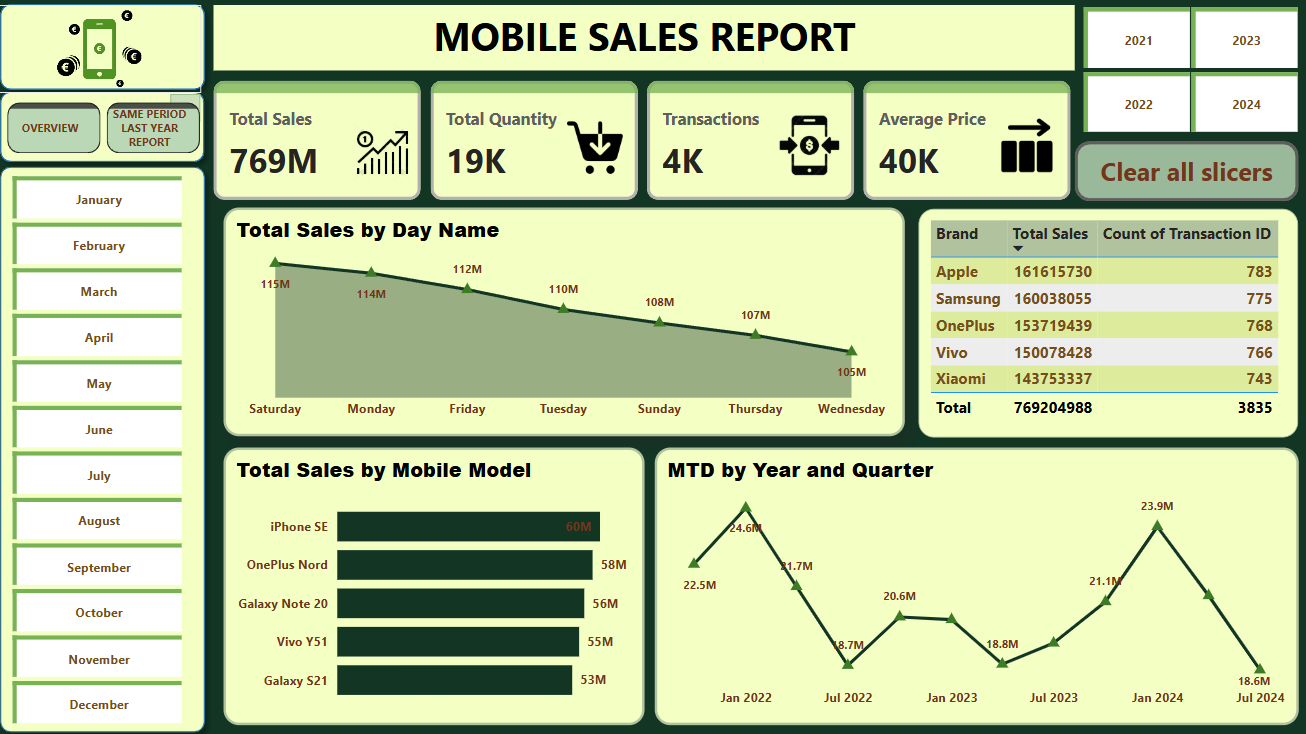

The dashboard page shown, as its layout file describes it:
{"tool":"powerbi","page":{"name":"MTD REPORT","canvas":[1280,720],"ordinal":1},"visuals":[{"type":"shape","box":[0,0,215.2,100.3],"z":0},{"type":"shape","box":[0,156.5,215.2,563.7],"z":1000},{"type":"shape","box":[0,84.5,214.7,85.7],"z":2000},{"type":"image","box":[6,9.7,196.6,84.5],"z":3000},{"type":"textbox","box":[215.2,9.8,831.5,63.6],"z":4000},{"type":"slicer","fields":{"Values":["Custom_Calender.Date.Variation.Date Hierarchy.Month"]},"box":[0,170.1,202.7,534.5],"z":5000},{"type":"slicer","fields":{"Values":["Custom_Calender.Date.Variation.Date Hierarchy.Year"]},"box":[1033.9,7.2,246.1,126.7],"z":6000},{"type":"areaChart","fields":{"Y":["Measure.Total Sales"],"Category":["Custom_Calender.Day Name"]},"box":[224.4,205.1,657.5,220.8],"z":7000},{"type":"tableEx","fields":{"Values":["Mobile Sales.Brand","Measure.Total Sales","CountNonNull(Mobile Sales.Transaction ID)"]},"box":[895.2,206.3,366.8,220.8],"z":8000},{"type":"lineChart","fields":{"Category":["Custom_Calender.Date.Variation.Date Hierarchy.Year","Custom_Calender.Date.Variation.Date Hierarchy.Quarter","Custom_Calender.Date.Variation.Date Hierarchy.Month"],"Y":["Measure.MTD"]},"box":[640.6,436.7,621.3,267.8],"z":9000},{"type":"clusteredBarChart","fields":{"Y":["Measure.Total Sales"],"Category":["Mobile Sales.Mobile Model"]},"box":[224.4,436.7,406.6,267.8],"z":10000},{"type":"cardVisual","fields":{"Data":["Measure.Total Sales","Measure.Total Quantity","Measure.Transactions","Measure.Average Price"]},"box":[209.9,57.9,840.9,165.3],"z":11000},{"type":"pageNavigator","box":[15.7,103.8,187,49.5],"z":12000},{"type":"actionButton","box":[1046,141.2,216,57.9],"z":13000}]}

Visuals, with their boxes in screenshot pixels (x1, y1, x2, y2), scaled from the page's 1280x720 canvas onto the 1306x734 screenshot:
shape: (left=0, top=0, right=220, bottom=102)
shape: (left=0, top=160, right=220, bottom=733)
shape: (left=0, top=86, right=219, bottom=174)
image: (left=6, top=10, right=207, bottom=96)
textbox: (left=220, top=10, right=1068, bottom=75)
slicer - Custom_Calender.Date.Variation.Date Hierarchy.Month: (left=0, top=173, right=207, bottom=718)
slicer - Custom_Calender.Date.Variation.Date Hierarchy.Year: (left=1055, top=7, right=1305, bottom=137)
areaChart - Measure.Total Sales x Custom_Calender.Day Name: (left=229, top=209, right=900, bottom=434)
tableEx - Mobile Sales.Brand x Measure.Total Sales: (left=913, top=210, right=1288, bottom=435)
lineChart - Custom_Calender.Date.Variation.Date Hierarchy.Year x Custom_Calender.Date.Variation.Date Hierarchy.Quarter: (left=654, top=445, right=1288, bottom=718)
clusteredBarChart - Measure.Total Sales x Mobile Sales.Mobile Model: (left=229, top=445, right=644, bottom=718)
cardVisual - Measure.Total Sales x Measure.Total Quantity: (left=214, top=59, right=1072, bottom=228)
pageNavigator: (left=16, top=106, right=207, bottom=156)
actionButton: (left=1067, top=144, right=1288, bottom=203)
